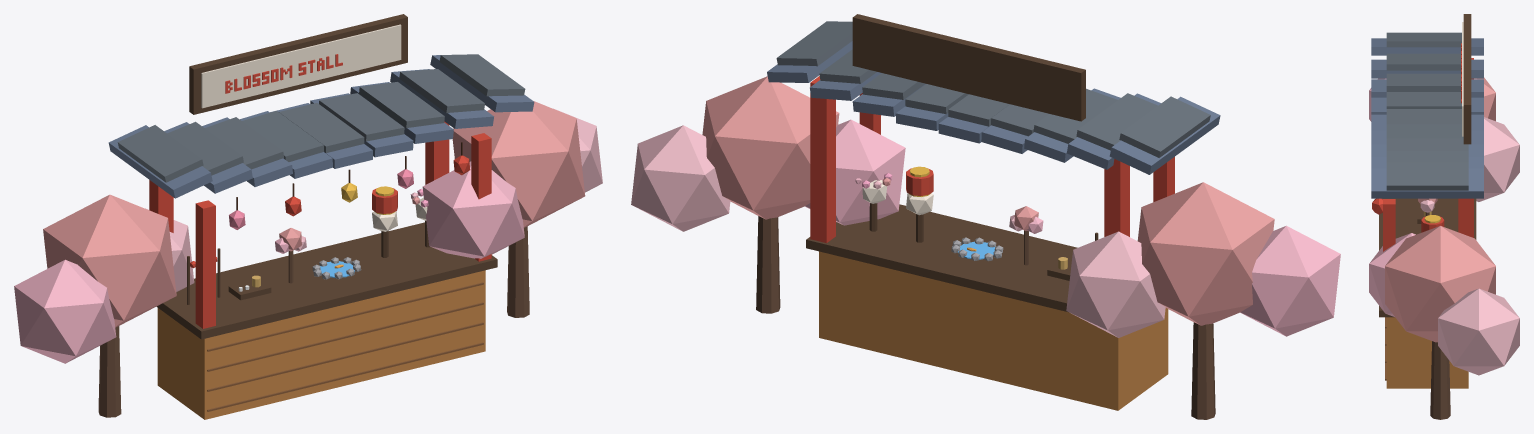
File: CatCafe_Cherry_Stall.glb
3 renders of one model, left to right at view 1: azimuth 30°, elevation 25°; view 2: azimuth 150°, elevation 25°; view 3: azimuth 270°, elevation 25°, orthographic. The views are drawn at different scales.
Parts seen in each view (by area): view 1: CatCafe_Cherry_Stall, CatCafe_Cherry_Stall_Glow; view 2: CatCafe_Cherry_Stall; view 3: CatCafe_Cherry_Stall, CatCafe_Cherry_Stall_Glow.
Boxes of the visible parts, x1=… form: CatCafe_Cherry_Stall: x1=14, y1=14, x2=602, y2=419; CatCafe_Cherry_Stall_Glow: x1=190, y1=155, x2=470, y2=268; CatCafe_Cherry_Stall: x1=631, y1=14, x2=1340, y2=419; CatCafe_Cherry_Stall: x1=1369, y1=14, x2=1519, y2=419; CatCafe_Cherry_Stall_Glow: x1=1372, y1=198, x2=1444, y2=232.
Size of the model in its own units: 24.07 by 11.6 by 5.88.
1 material, 1 textured.
